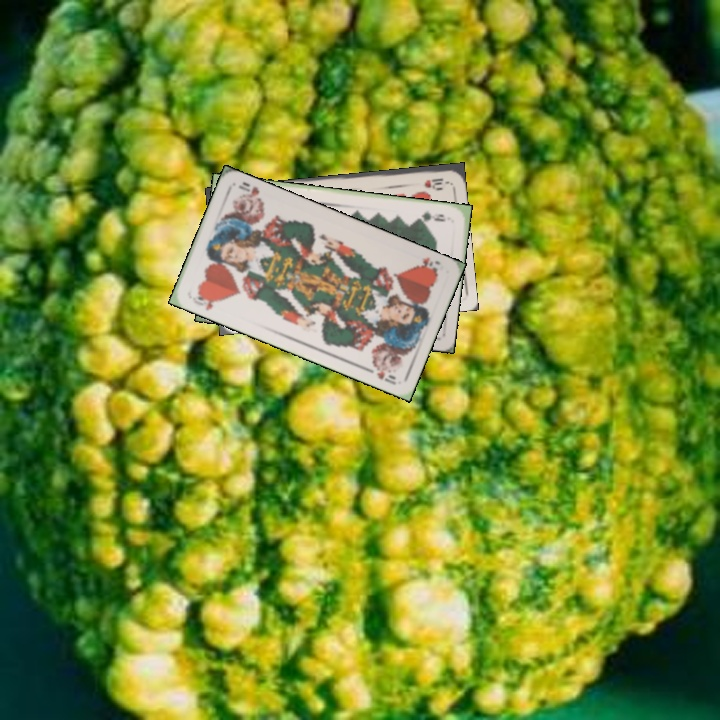G9: (413, 207, 448, 224)
H10: (421, 174, 450, 189)
HO: (413, 253, 443, 277), (193, 289, 221, 313)
